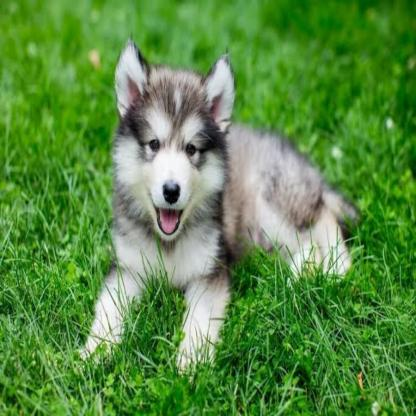dog: (84, 39, 359, 374)
